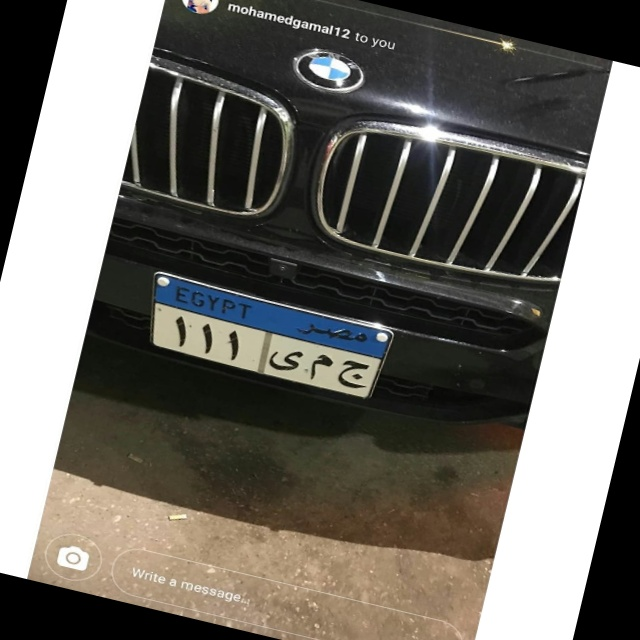License Plate: (133, 264, 402, 411)
